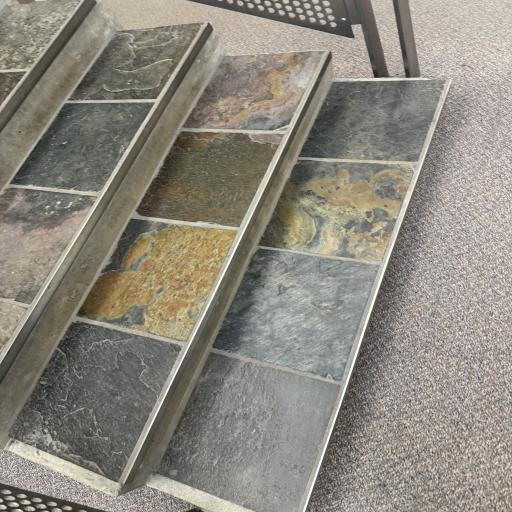Stairs: (0, 0, 449, 512), (2, 26, 332, 493), (148, 79, 450, 512), (0, 0, 222, 392)
